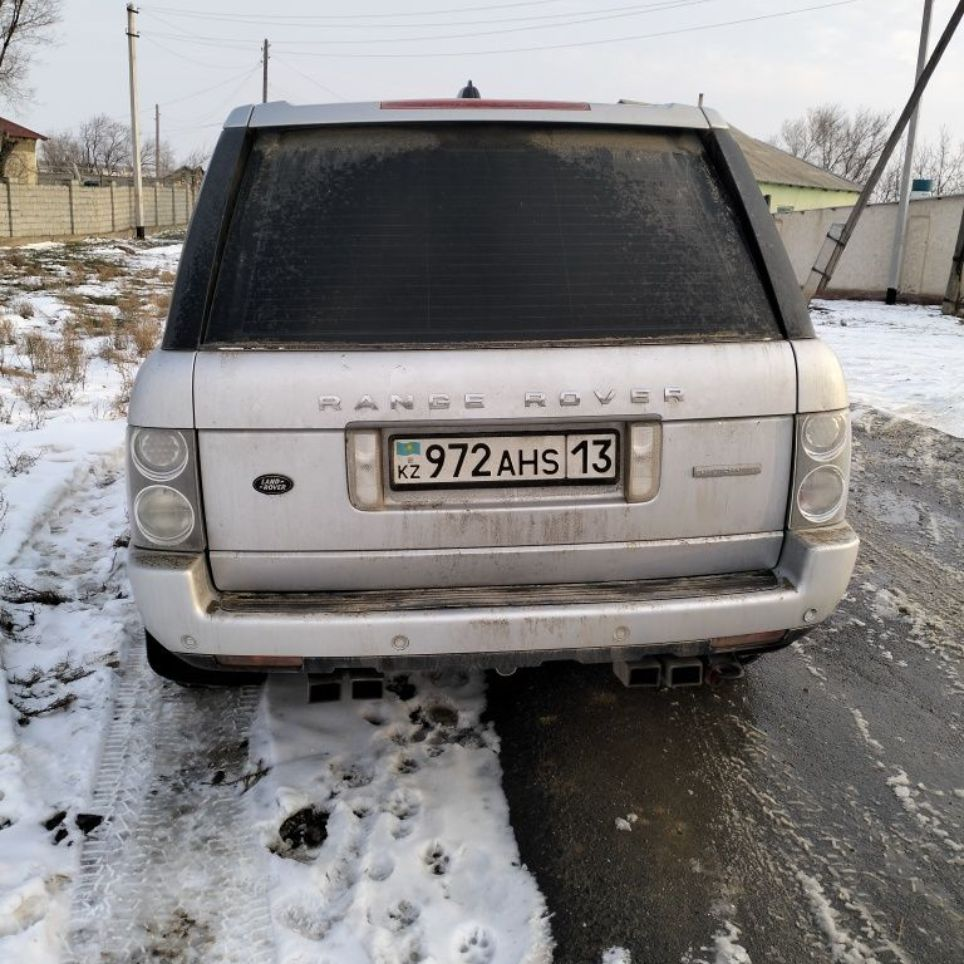license plate: (388, 436, 617, 481)
truck: (146, 101, 852, 682)
